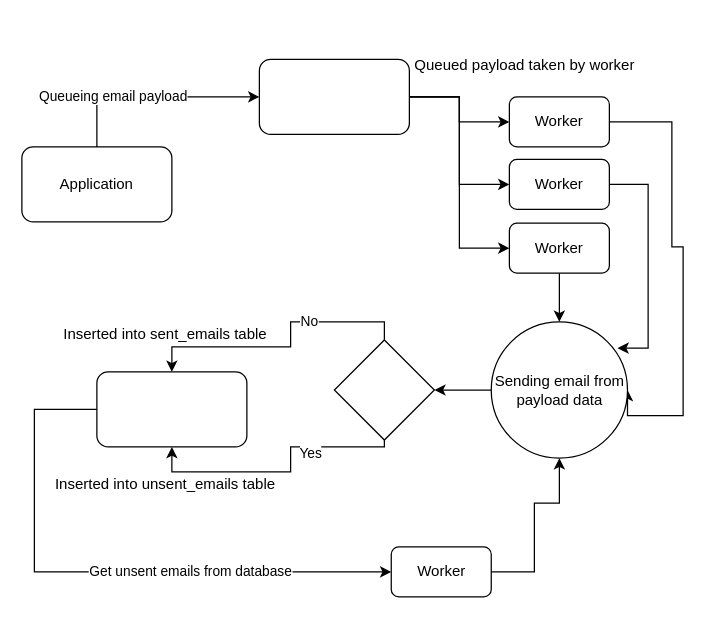
The diagram is 715 pixels wide and 619 high, and some of its shapes have lost their labels. The shapes that lost their labels are listed below. From the top down, each one's box as (x1, y1, x2, y2) in pixels, then its label:
(258, 58, 409, 134): RabbitMQ
(96, 371, 247, 447): Database
(333, 339, 434, 440): Problem?
